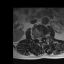CCS_normal: (39, 34, 40, 44)
LFS_severe_stenosis: (42, 34, 44, 39)
LLS_normal: (40, 34, 42, 42)
RFS_stenosis: (35, 35, 37, 41)
RLS_normal: (37, 34, 39, 42)
